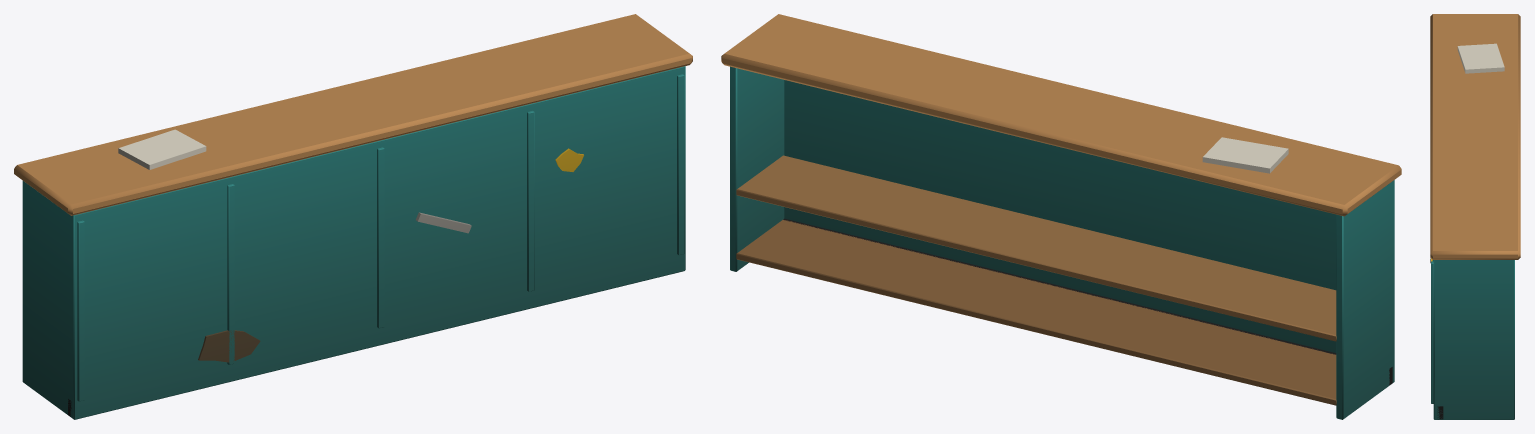
The model's file is 47b_comptoir_boutique_10.fbx.
The picture shows the model from 3 angles, left to right: view 1: azimuth 30°, elevation 25°; view 2: azimuth 150°, elevation 25°; view 3: azimuth 270°, elevation 25°; orthographic projection. The views are drawn at different scales.
Visible parts, largest first — view 1: Comptoir; view 2: Comptoir; view 3: Comptoir.
Part boxes in pixels (x1=…): Comptoir: x1=14, y1=14, x2=692, y2=419; Comptoir: x1=721, y1=14, x2=1401, y2=419; Comptoir: x1=1430, y1=14, x2=1520, y2=419.
Bounding box in the file's own units: 2.8 × 0.952 × 0.448.
1 material, 1 textured.
